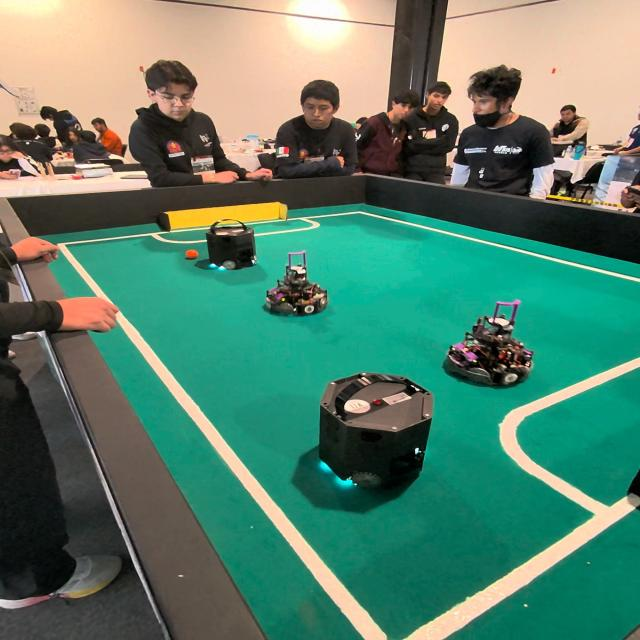Robot: (314, 359, 442, 514), (446, 305, 536, 393), (264, 261, 328, 317), (203, 213, 258, 278)
pelota: (184, 248, 199, 260)
